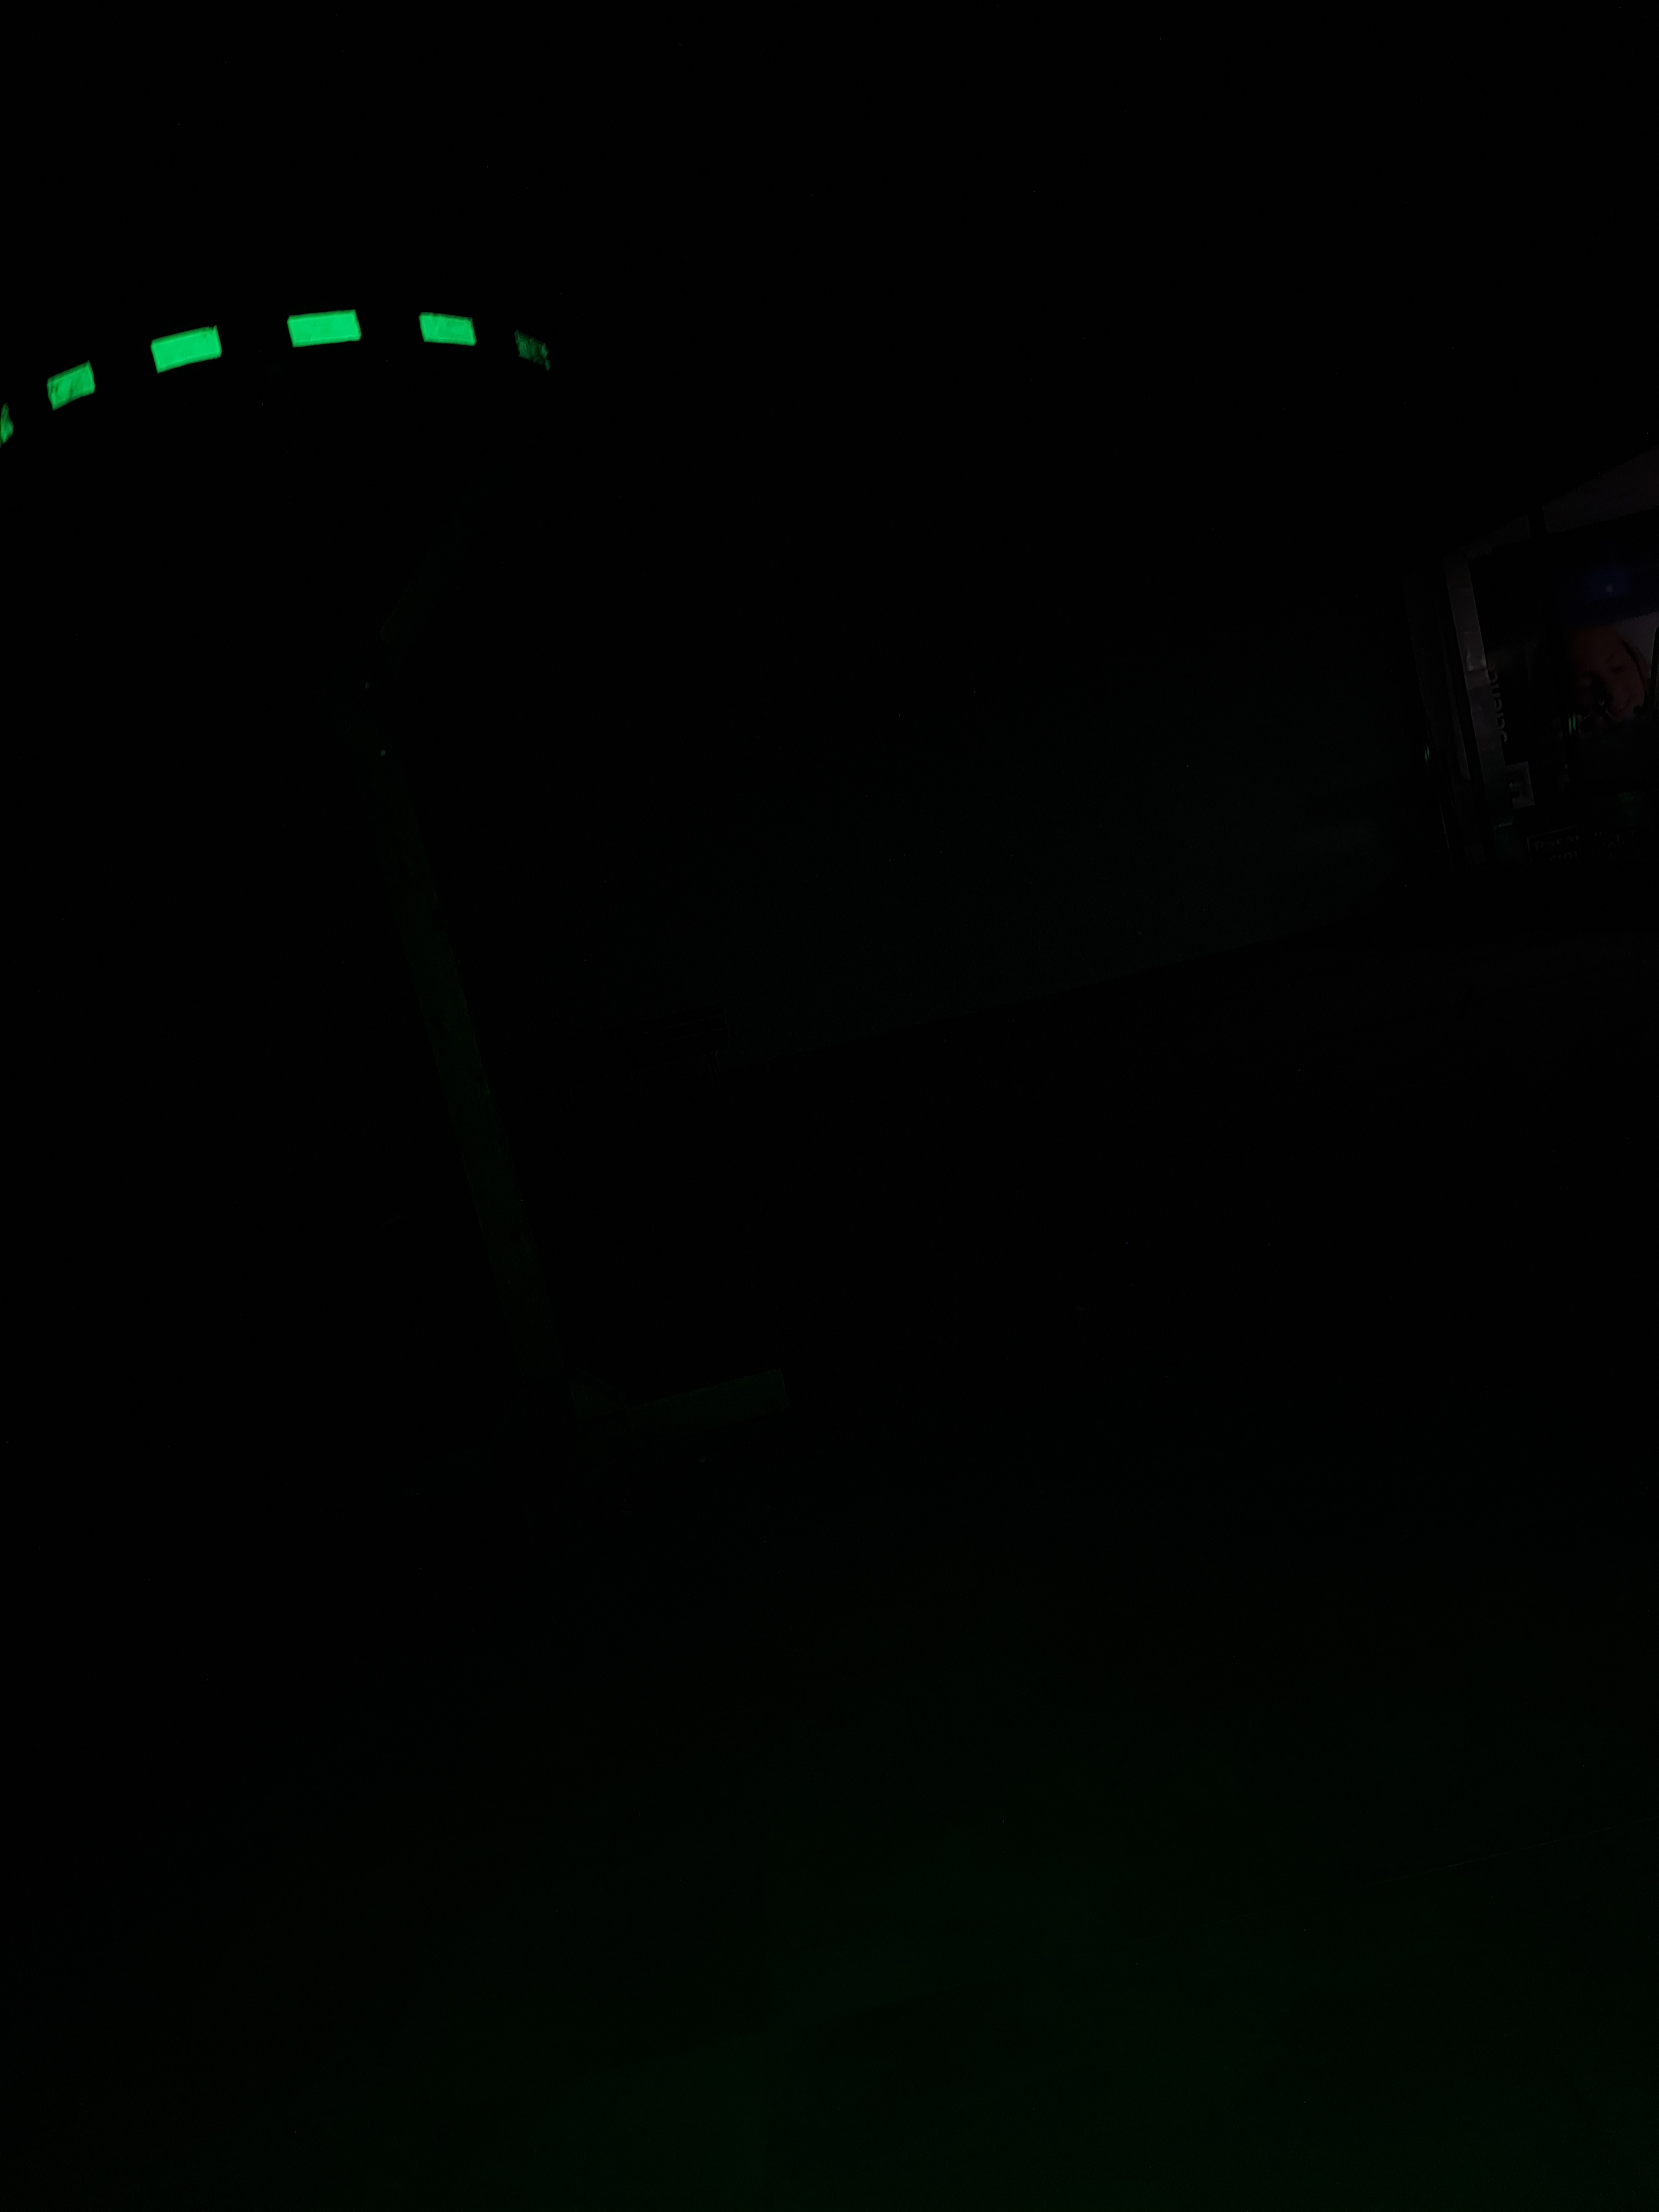hoop: (9, 249, 558, 460)
